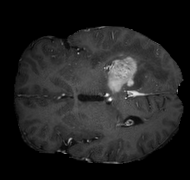Edema: (91, 36, 169, 131)
EnhancingTumors: (101, 56, 141, 100)
Necrosis: (104, 56, 141, 99)
